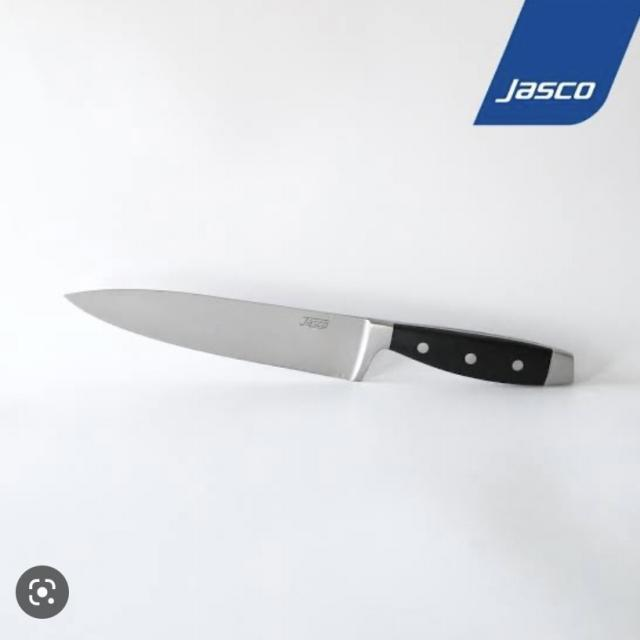Knife: (54, 282, 582, 403)
